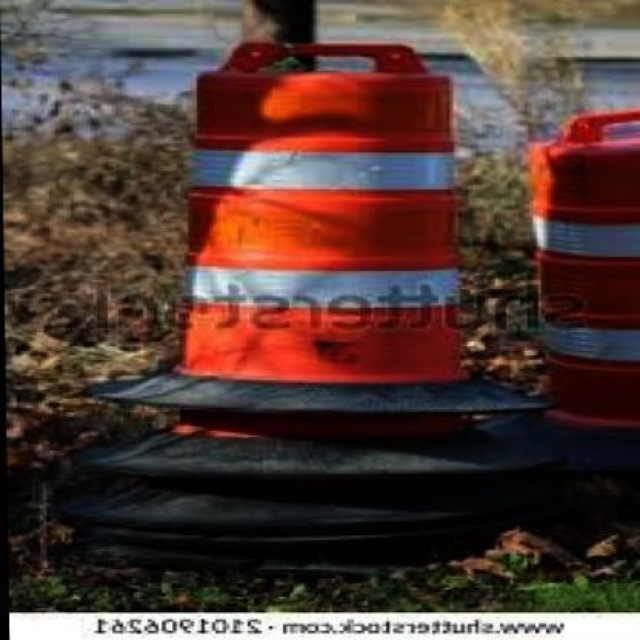obstacle: (171, 29, 466, 380), (538, 77, 640, 426)
